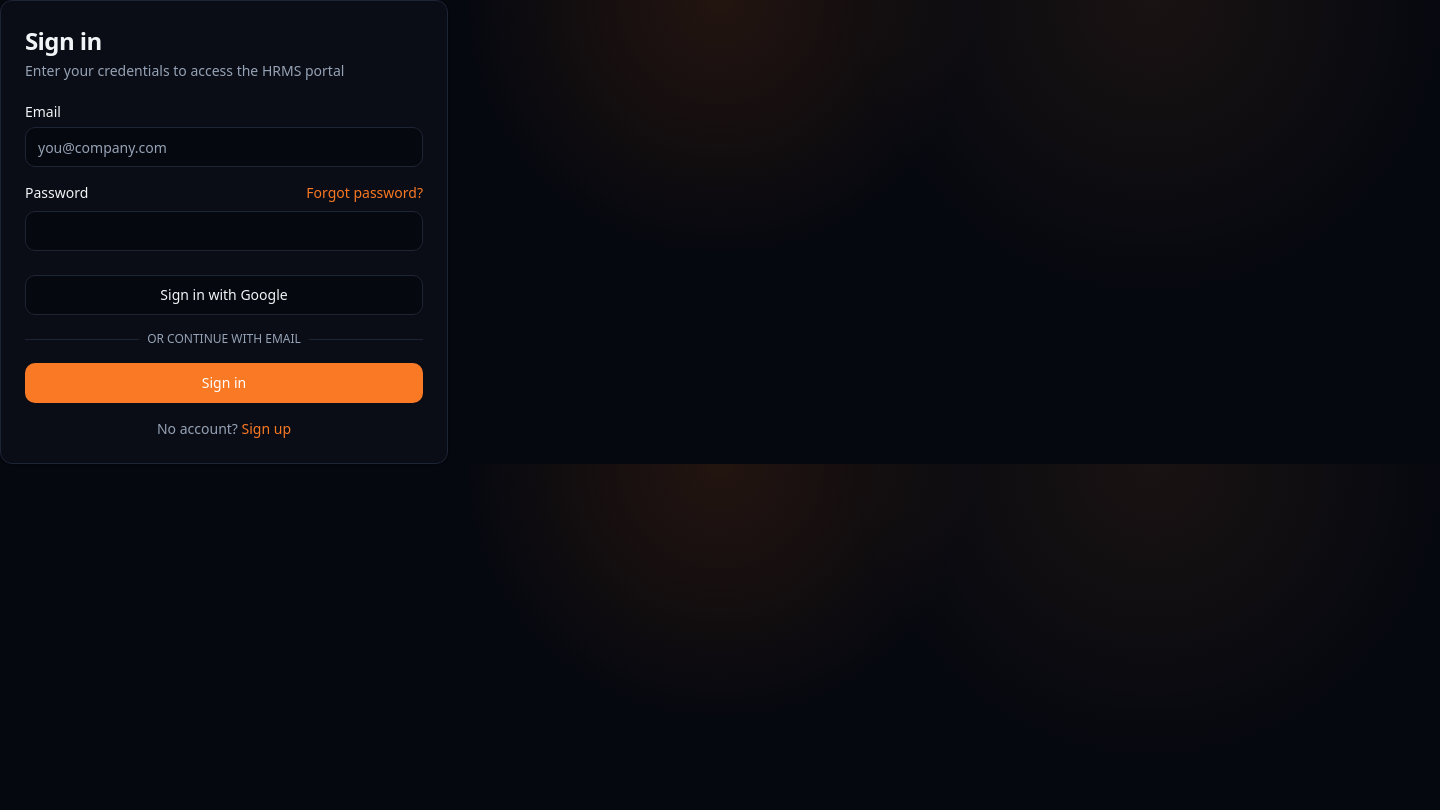
Test: LoginForm › shows validation errors on empty submit
This screenshot has width=1440, height=810.
Click the button "Sign in" at [224, 383], box x1=25 y1=363 x2=423 y2=403
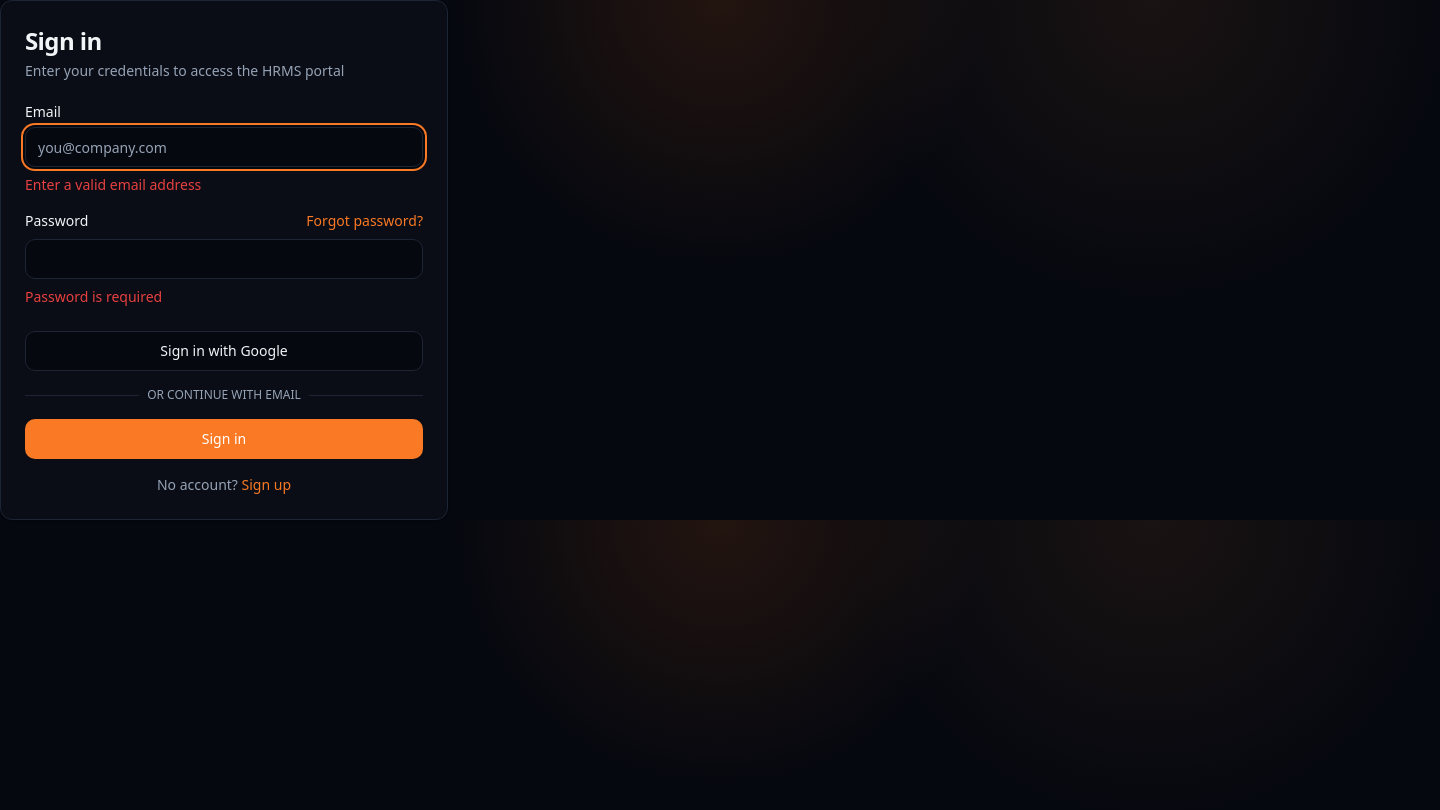
Expected: the text "Enter a valid email address" is shown, x1=25 y1=175 x2=201 y2=194
Expected: the text "Password is required" is shown, x1=25 y1=287 x2=162 y2=306
